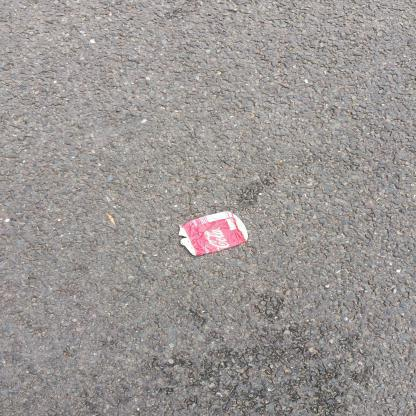metal: (179, 212, 251, 258)
